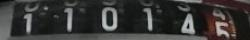digits: (18, 0, 44, 40), (172, 1, 196, 38), (208, 3, 228, 40), (101, 6, 117, 29), (142, 7, 154, 29), (63, 7, 73, 31)
